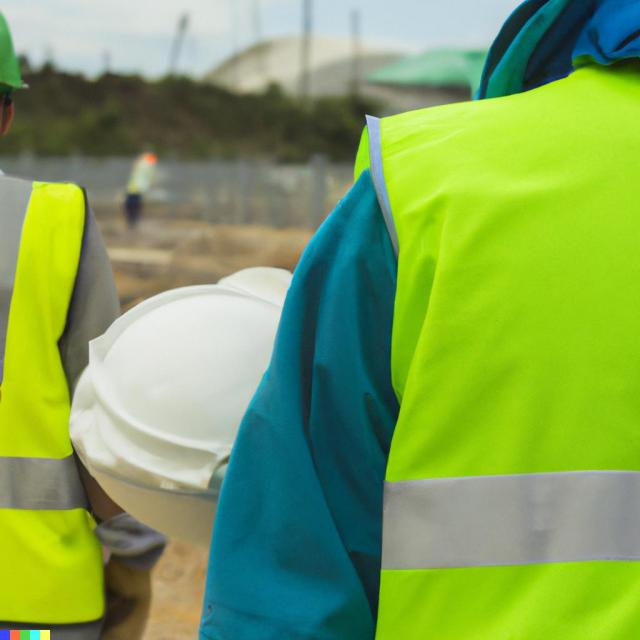Reflective-Jacket: (357, 27, 640, 640), (1, 155, 101, 634)
Safety-Helmet: (66, 268, 323, 537), (1, 1, 34, 101)
